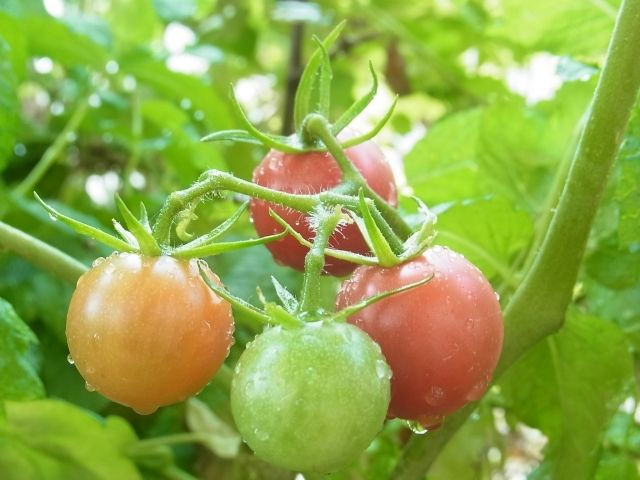stems: (152, 167, 314, 251), (330, 195, 406, 259), (297, 114, 363, 184), (300, 212, 340, 319)
tomato: (335, 243, 507, 425), (64, 248, 235, 410), (230, 314, 390, 470), (249, 123, 400, 279)
